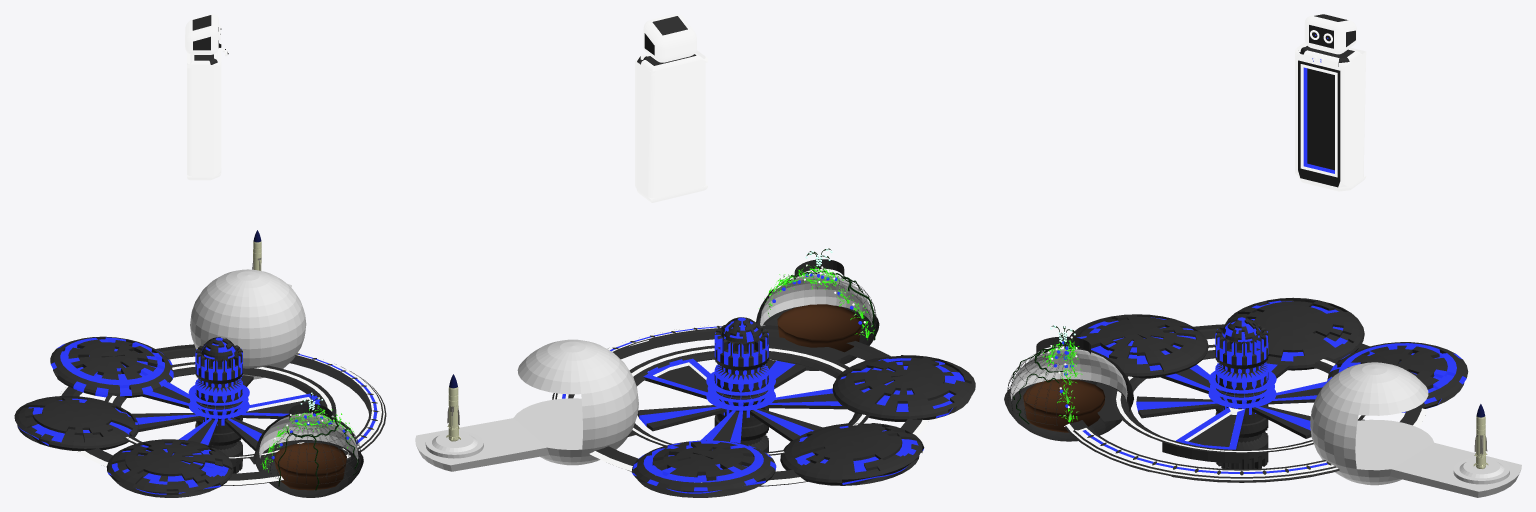
File: spaceStation-17.glb
The picture shows the model from 3 angles, left to right: view 1: azimuth 30°, elevation 25°; view 2: azimuth 150°, elevation 25°; view 3: azimuth 270°, elevation 25°; orthographic projection. The views are drawn at different scales.
Parts seen in each view (by area): view 1: OuterRings, ResearchBubble, NavRobot, PlantBase, VolunteerBase, VolunteerBase.001, VolunteerWindows, MainCenterRing, PlantWall, VolunteerWall; view 2: OuterRings, ResearchBubble, NavRobot, PlantBase, VolunteerBase, MainCenterRing, LandingPad, PlantWall, VolunteerBase.001, Missile; view 3: OuterRings, ResearchBubble, NavRobot, PlantBase, VolunteerBase, VolunteerBase.001, MainCenterRing, LandingPad, VolunteerWindows, PlantWall, VolunteerWall, Missile.
Part boxes in pixels (<box>): OuterRings: <box>14,336,386,497</box>; ResearchBubble: <box>190,269,306,379</box>; NavRobot: <box>185,14,228,180</box>; PlantBase: <box>274,443,346,490</box>; VolunteerBase: <box>259,413,358,462</box>; VolunteerBase.001: <box>253,440,363,497</box>; VolunteerWindows: <box>270,418,361,484</box>; MainCenterRing: <box>188,385,249,418</box>; PlantWall: <box>261,405,354,472</box>; VolunteerWall: <box>255,403,356,455</box>; OuterRings: <box>552,317,975,497</box>; ResearchBubble: <box>415,339,638,471</box>; NavRobot: <box>635,14,707,202</box>; PlantBase: <box>777,304,860,352</box>; VolunteerBase: <box>760,274,872,325</box>; MainCenterRing: <box>706,371,775,410</box>; LandingPad: <box>425,430,483,458</box>; PlantWall: <box>759,264,874,339</box>; VolunteerBase.001: <box>755,305,879,370</box>; Missile: <box>446,374,460,441</box>; OuterRings: <box>1064,297,1468,482</box>; ResearchBubble: <box>1310,362,1521,497</box>; NavRobot: <box>1295,14,1366,191</box>; PlantBase: <box>1023,379,1105,432</box>; VolunteerBase: <box>1010,349,1127,401</box>; VolunteerBase.001: <box>1004,379,1133,441</box>; MainCenterRing: <box>1208,370,1276,408</box>; LandingPad: <box>1453,457,1509,484</box>; VolunteerWindows: <box>1007,346,1063,425</box>; PlantWall: <box>1042,336,1082,422</box>; VolunteerWall: <box>1036,336,1133,397</box>; Missile: <box>1473,404,1488,469</box>.
Size of the model in its own units: 125 by 144 by 142.
